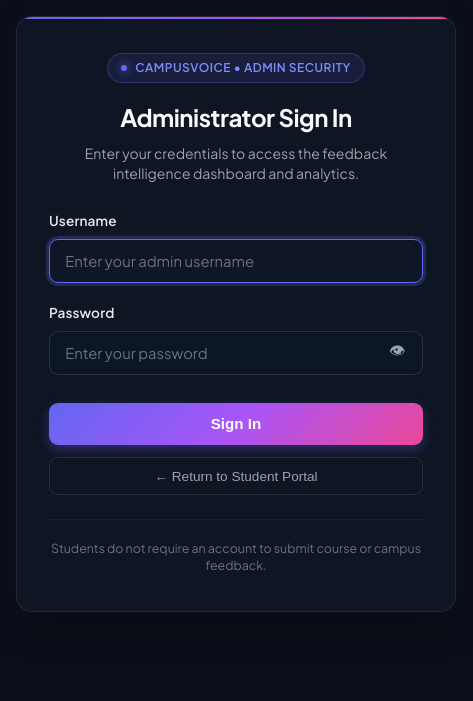
Test: LoginPage Component › validates empty fields and displays client validation alerts
// Submit with empty username
Click the button "Sign In" at [236, 424], box [49,402,423,445]
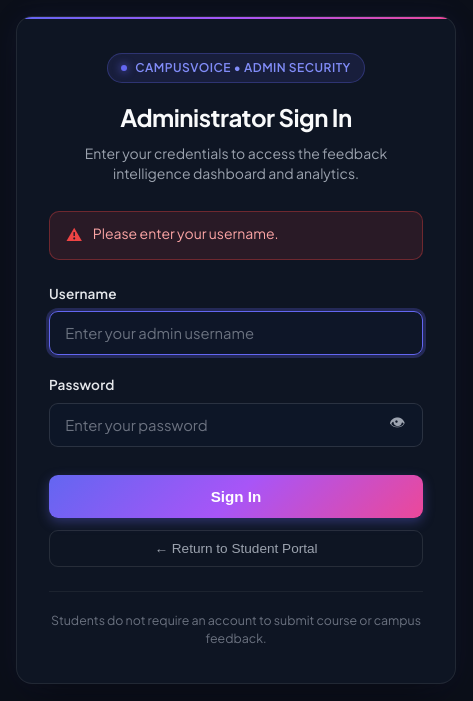
Now the message shows "Please enter your username", box [93,224,279,242]
// Fill username, leave password empty
Type "admin_user" into the field labelled "Username" at [236, 333], box [49,311,423,355]
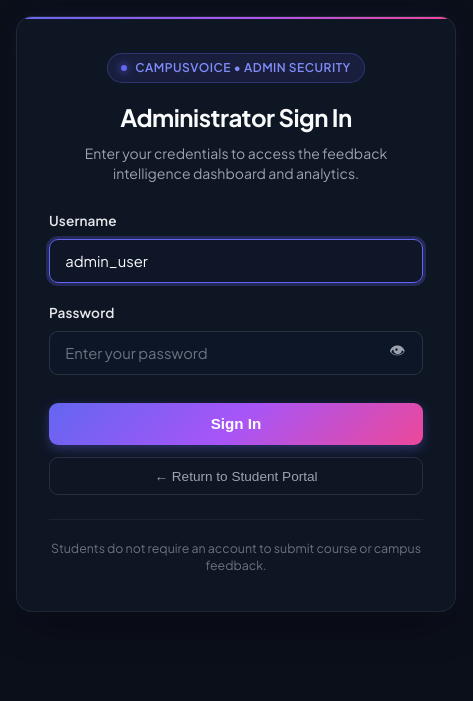
Click the button "Sign In" at [236, 424], box [49,402,423,445]
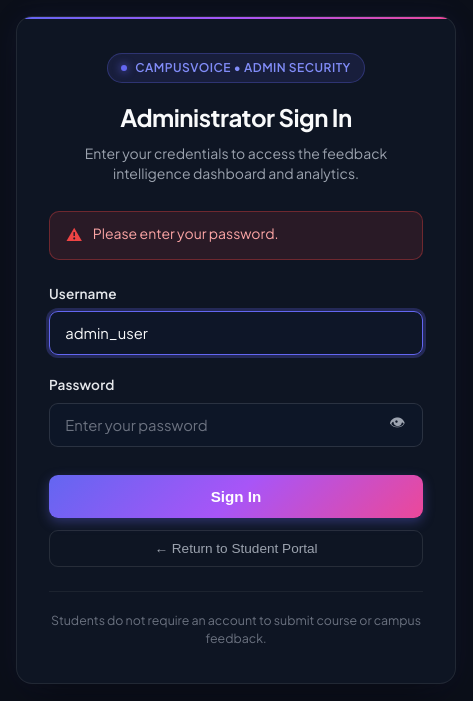
Now the message shows "Please enter your password", box [93,224,278,242]
